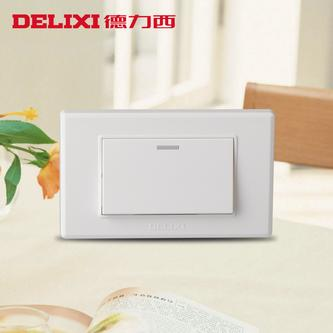switch: (97, 135, 246, 212)
